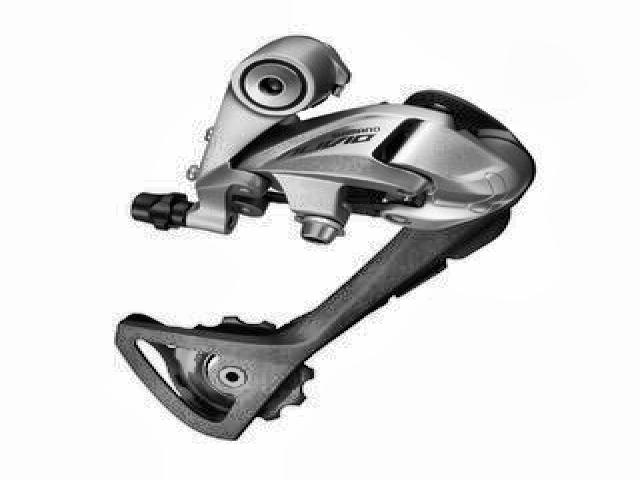rear_derailleur: (99, 31, 542, 444)
